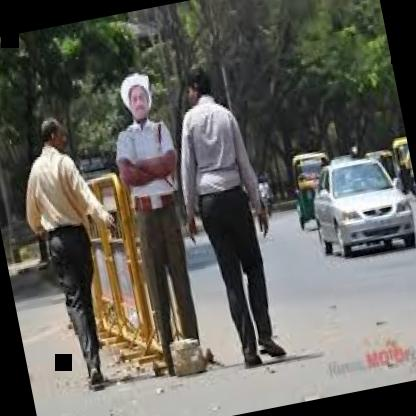car: (303, 145, 416, 282)
